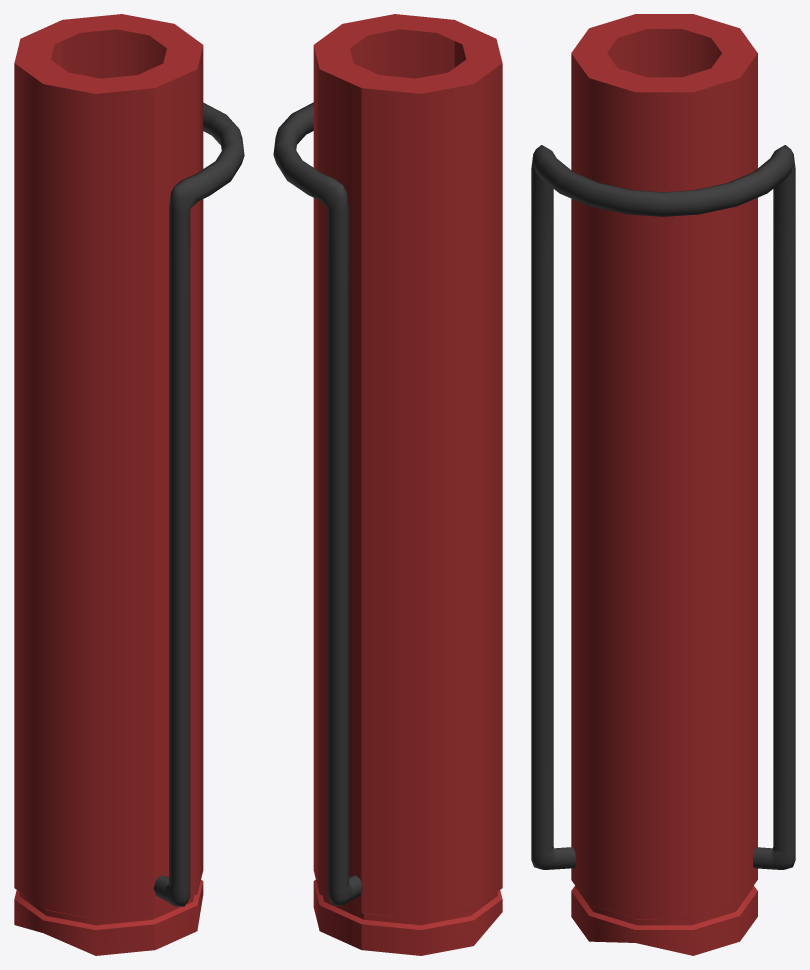
Rendered from FlareOpen.fbx.
The picture shows the model from 3 angles, left to right: view 1: azimuth 30°, elevation 25°; view 2: azimuth 150°, elevation 25°; view 3: azimuth 270°, elevation 25°; orthographic projection.
Visible parts, largest first — view 1: pasted__polySurface54; view 2: pasted__polySurface54; view 3: pasted__polySurface54.
Boxes of the visible parts, x1,y1,x2,y2 form: pasted__polySurface54: (14,14,244,955); pasted__polySurface54: (273,14,502,955); pasted__polySurface54: (531,14,795,955).
Bounding box in the file's own units: 17.32 × 71.46 × 19.85.
